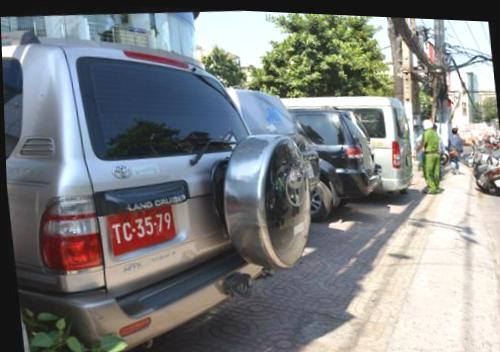License_Plate: (107, 206, 176, 250)
